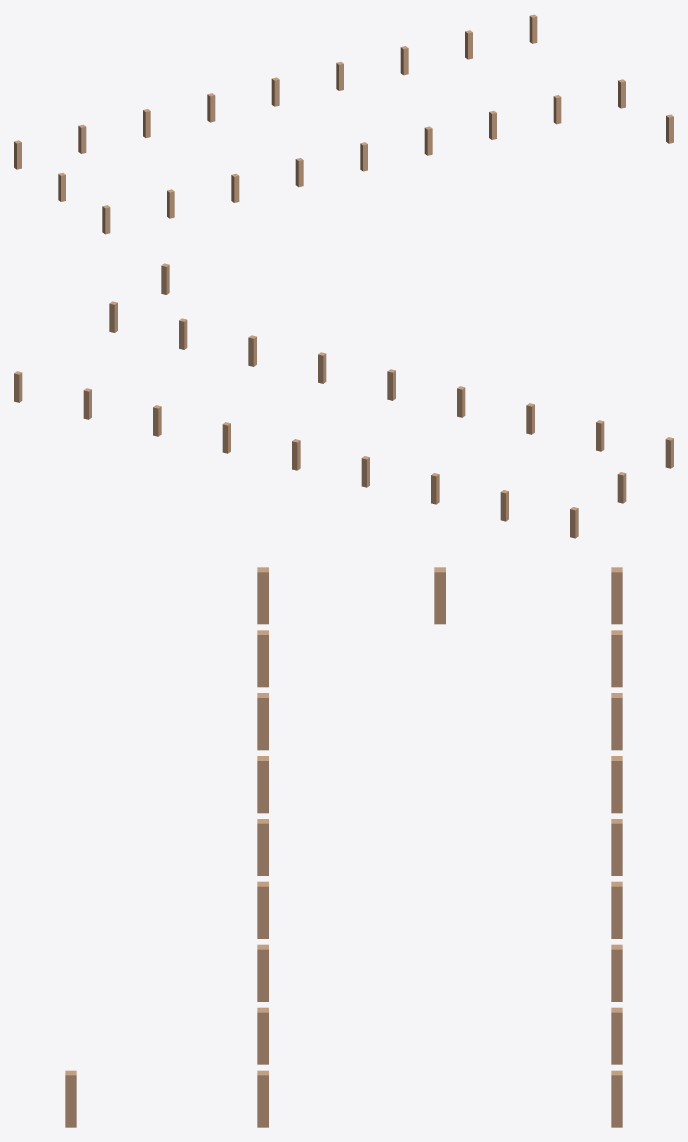
Rendered from tasci-kolon-plan.glb.
3 renders of one model, top to bottom at view 1: azimuth 30°, elevation 25°; view 2: azimuth 150°, elevation 25°; view 3: azimuth 270°, elevation 25°, orthographic. The views are drawn at different scales.
Parts seen in each view (by area): view 1: structural::Kolon aplikasyon planı::web_batch; view 2: structural::Kolon aplikasyon planı::web_batch; view 3: structural::Kolon aplikasyon planı::web_batch.
Boxes of the visible parts, <box> form: structural::Kolon aplikasyon planı::web_batch: <box>14,14,673,234</box>; structural::Kolon aplikasyon planı::web_batch: <box>14,263,673,538</box>; structural::Kolon aplikasyon planı::web_batch: <box>65,567,622,1127</box>.
Bounding box in the file's own units: 62.52 × 3 × 29.
